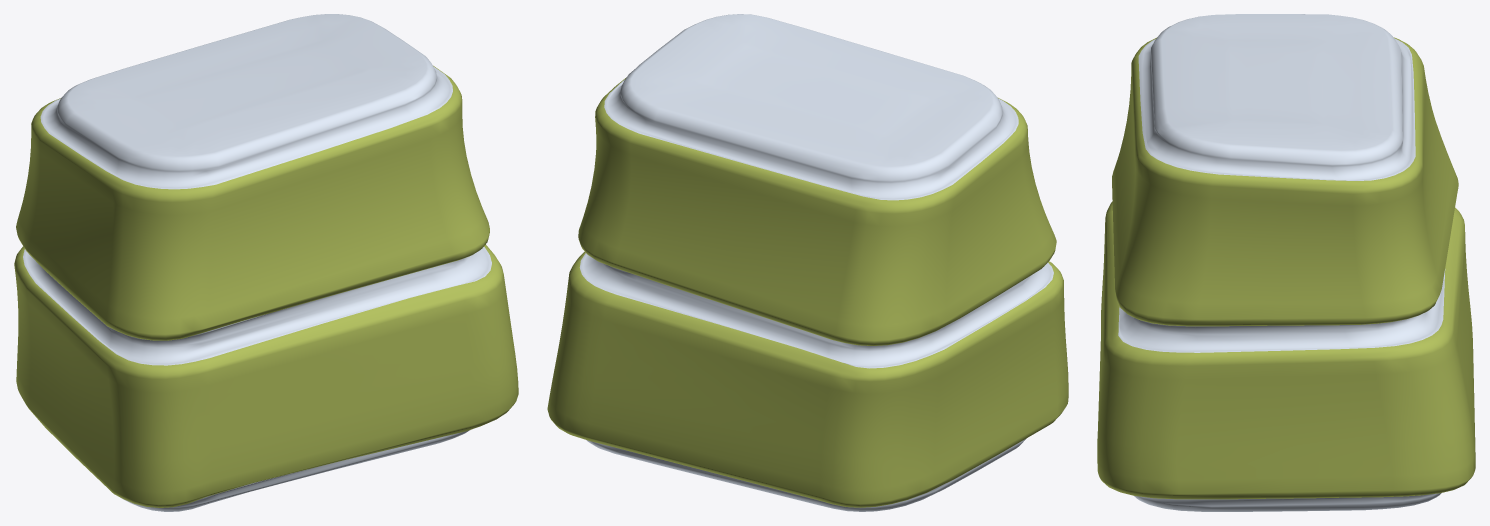
File: SM_Building_03_Version_03_Part_03.fbx
3 views of the same model, side by side, from view 1: azimuth 30°, elevation 25°; view 2: azimuth 150°, elevation 25°; view 3: azimuth 270°, elevation 25° (orthographic). The views are drawn at different scales.
Parts seen in each view (by area): view 1: SM_Building_03_Version_03_Part_03; view 2: SM_Building_03_Version_03_Part_03; view 3: SM_Building_03_Version_03_Part_03.
Part boxes in pixels (box(x1,y1,x2,y2)): SM_Building_03_Version_03_Part_03: box(14, 14, 518, 511); SM_Building_03_Version_03_Part_03: box(547, 14, 1068, 511); SM_Building_03_Version_03_Part_03: box(1097, 14, 1475, 511).
Size of the model in its own units: 5021 by 4334 by 4018.
